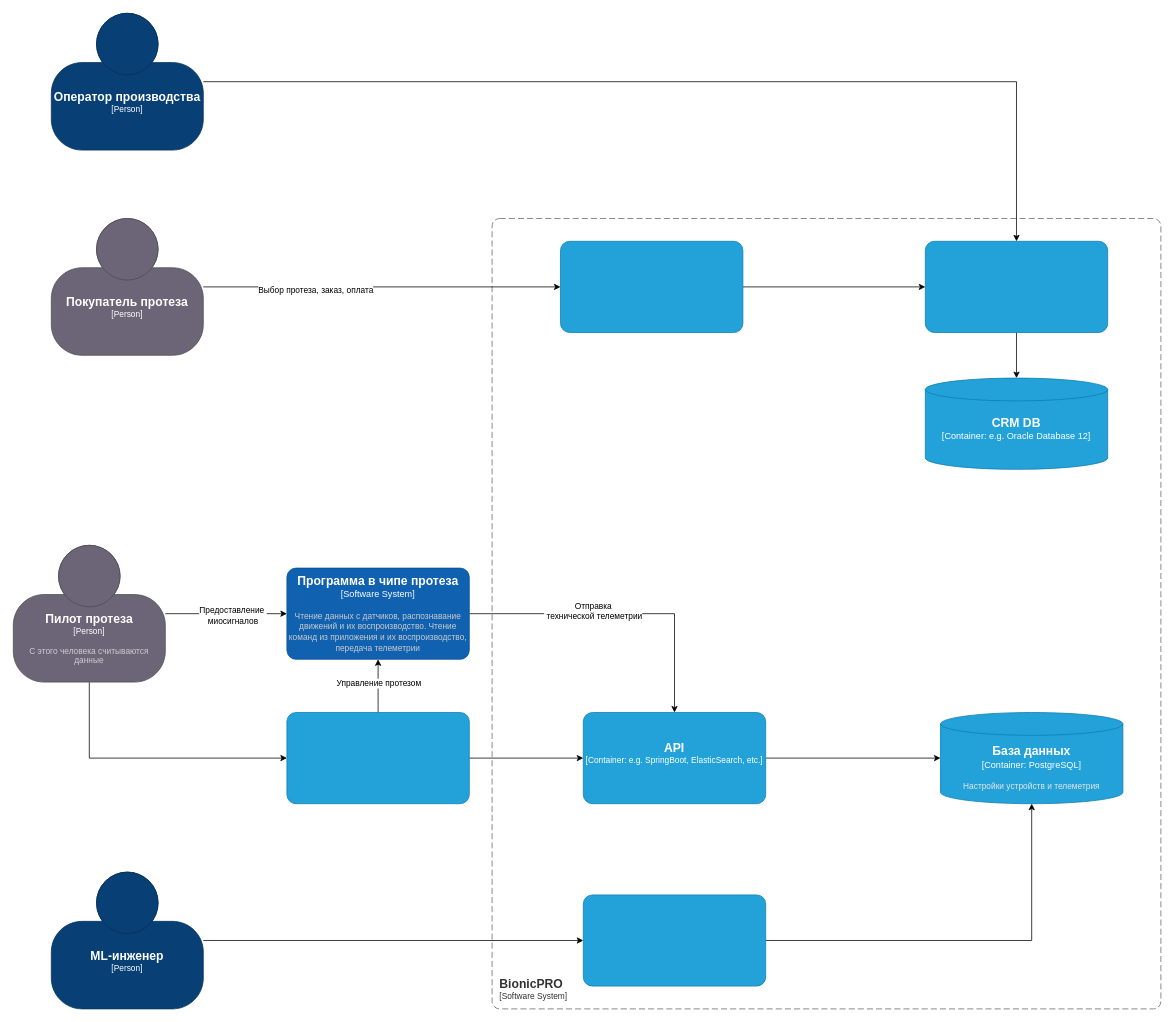
This 1174x1022 diagram has some shape labels left out. The shapes that lost their labels are listed below. From the top down, each one's centre as x and y in pixels, then its label:
At point (651, 286): "Интернет-магазин [Container: Битрикс24]".
At point (1016, 286): "CRM [Container: Битрикс24]".
At point (377, 758): "Приложение для донастройки протеза [Container: iOD, Android]".
At point (674, 940): "cli tool [Container: e.g. SpringBoot, ElasticSearch, etc.]".
